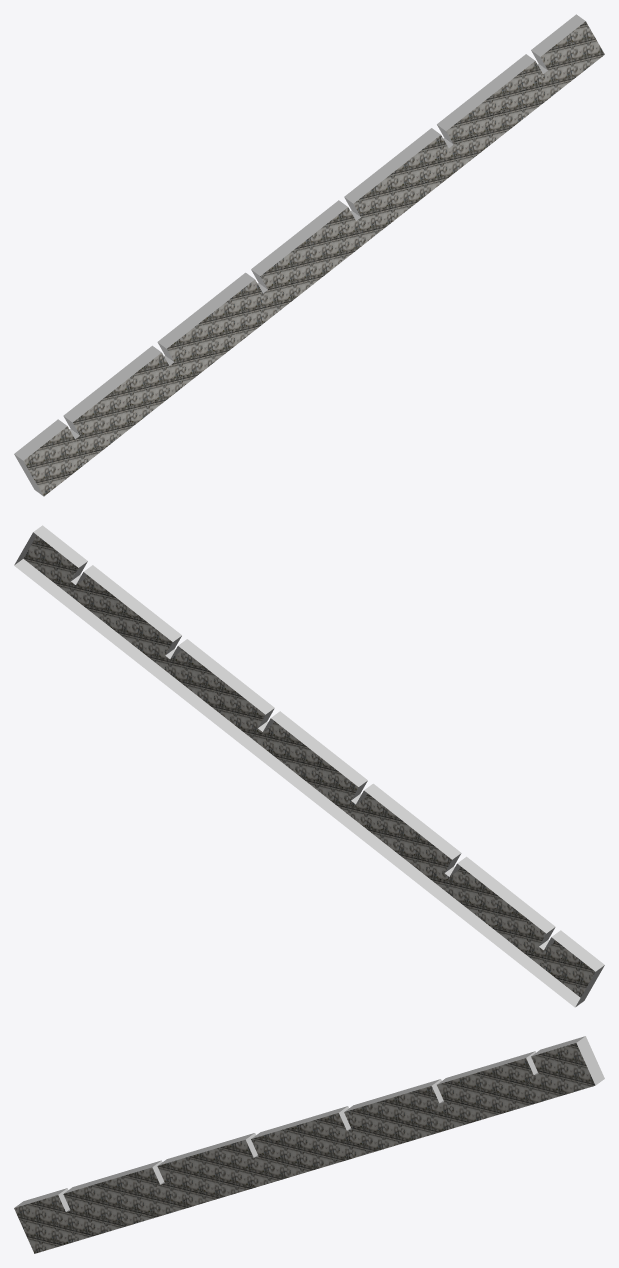
The model's file is geospecific_138.obj.
3 views of the same model, one above another, from view 1: azimuth 30°, elevation 25°; view 2: azimuth 150°, elevation 25°; view 3: azimuth 330°, elevation 25° (orthographic).
Parts seen in each view (by area): view 1: Building; view 2: Building; view 3: Building.
Boxes of the visible parts, x1,y1,x2,y2 form: Building: (14,14,604,496); Building: (14,525,604,1007); Building: (14,1036,604,1253).
Bounding box in the file's own units: 107 × 60.32 × 3.
